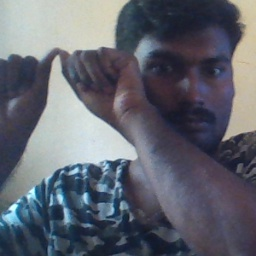A: (3, 41, 128, 131)
